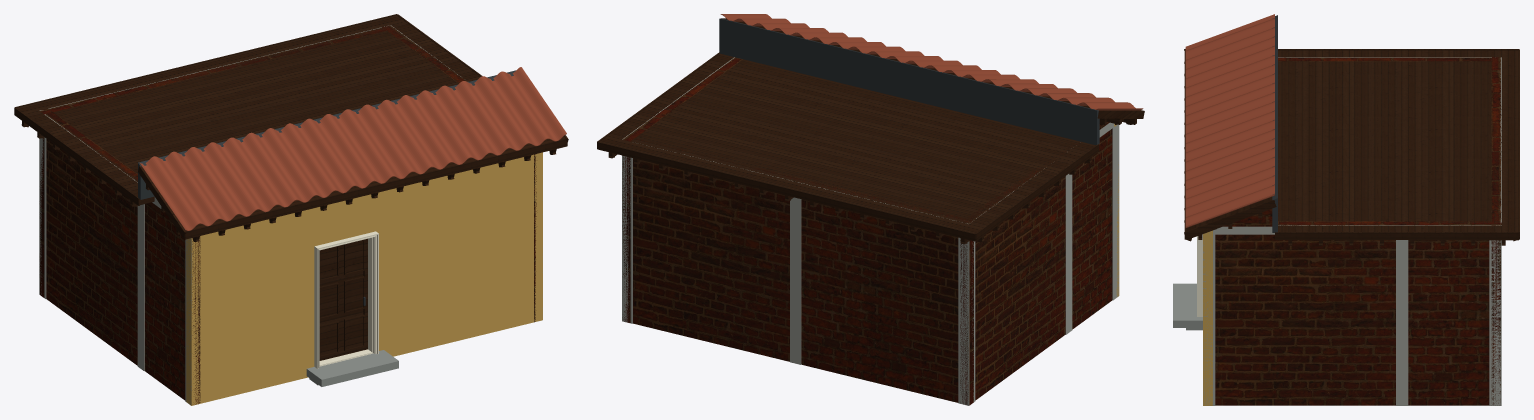
File: building.glb
The picture shows the model from 3 angles, left to right: view 1: azimuth 30°, elevation 25°; view 2: azimuth 150°, elevation 25°; view 3: azimuth 270°, elevation 25°; orthographic projection.
Visible parts, largest first — view 1: house:0/edge0/z0/house:0/edge0/z0/wall_0_0, roof_assembly/cubierta/roof_substrate#0002, house:0/edge3/z0/house:0/edge3/z0/wall_0_0, roof_assembly/cubierta/roof_fascia#0002, house:0/edge2/z0/house:0/edge2/z0/wall_0_0, site/entrance/0/entrance_step#0002, house:0/edge3/z0/house:0/edge3/z0/column_2_0, roof_assembly/cubierta/roof_fascia#0005, house:0/edge0/z0/opening_u2.80_v0.12/door_panel_back#0001, house:0/edge1/z0/house:0/edge1/z0/wall_0_0, house:0/edge3/z0/house:0/edge3/z0/column_0_0, roof_assembly/cubierta/roof_substrate#0001 (+13 smaller); view 2: house:0/edge2/z0/house:0/edge2/z0/wall_0_0, roof_assembly/cubierta/roof_substrate#0002, house:0/edge3/z0/house:0/edge3/z0/wall_0_0, roof_assembly/cubierta/roof_abutment#0001, roof_assembly/cubierta/roof_fascia#0004, house:0/edge1/z0/house:0/edge1/z0/wall_0_0, house:0/edge2/z0/house:0/edge2/z0/column_2_0, house:0/edge2/z0/house:0/edge2/z0/column_1_0, house:0/edge2/z0/house:0/edge2/z0/column_0_0, house:0/edge3/z0/house:0/edge3/z0/column_1_0, house:0/edge3/z0/house:0/edge3/z0/column_2_0, roof_assembly/cubierta/roof_fascia#0005; view 3: house:0/edge1/z0/house:0/edge1/z0/wall_0_0, roof_assembly/cubierta/roof_substrate#0002, house:0/edge2/z0/house:0/edge2/z0/wall_0_0, house:0/edge1/z0/house:0/edge1/z0/column_2_0, house:0/edge1/z0/house:0/edge1/z0/column_1_0, roof_assembly/cubierta/roof_fascia#0006, house:0/edge0/z0/house:0/edge0/z0/wall_0_0, site/entrance/0/entrance_step#0002, house:0/edge3/z0/house:0/edge3/z0/wall_0_0, roof_assembly/cubierta/roof_fascia#0003, house:0/edge1/z0/house:0/edge1/z0/column_0_0, roof_assembly/cubierta/roof_abutment#0001 (+7 smaller).
Part boxes in pixels (x1,y1,x2,y2): house:0/edge0/z0/house:0/edge0/z0/wall_0_0: (186,152,542,405); roof_assembly/cubierta/roof_substrate#0002: (17,15,480,204); house:0/edge3/z0/house:0/edge3/z0/wall_0_0: (43,108,200,404); roof_assembly/cubierta/roof_fascia#0002: (185,138,567,239); house:0/edge2/z0/house:0/edge2/z0/wall_0_0: (39,27,395,297); site/entrance/0/entrance_step#0002: (306,350,398,386); house:0/edge3/z0/house:0/edge3/z0/column_2_0: (137,204,144,370); roof_assembly/cubierta/roof_fascia#0005: (14,107,139,205); house:0/edge0/z0/opening_u2.80_v0.12/door_panel_back#0001: (319,244,363,351); house:0/edge1/z0/house:0/edge1/z0/wall_0_0: (382,25,536,322); house:0/edge3/z0/house:0/edge3/z0/column_0_0: (39,137,46,298); roof_assembly/cubierta/roof_substrate#0001: (142,136,565,238); house:0/edge2/z0/house:0/edge2/z0/wall_0_0: (633,139,973,405); roof_assembly/cubierta/roof_substrate#0002: (600,53,1095,233); house:0/edge3/z0/house:0/edge3/z0/wall_0_0: (960,129,1112,404); roof_assembly/cubierta/roof_abutment#0001: (719,18,1099,144); roof_assembly/cubierta/roof_fascia#0004: (597,141,975,241); house:0/edge1/z0/house:0/edge1/z0/wall_0_0: (622,57,742,323); house:0/edge2/z0/house:0/edge2/z0/column_2_0: (790,197,801,364); house:0/edge2/z0/house:0/edge2/z0/column_1_0: (958,237,969,405); house:0/edge2/z0/house:0/edge2/z0/column_0_0: (622,155,632,323); house:0/edge3/z0/house:0/edge3/z0/column_1_0: (1112,124,1119,300); house:0/edge3/z0/house:0/edge3/z0/column_2_0: (1065,174,1072,334); roof_assembly/cubierta/roof_fascia#0005: (975,144,1098,241); house:0/edge1/z0/house:0/edge1/z0/wall_0_0: (1215,221,1501,405); roof_assembly/cubierta/roof_substrate#0002: (1278,50,1518,231); house:0/edge2/z0/house:0/edge2/z0/wall_0_0: (1491,57,1500,404); house:0/edge1/z0/house:0/edge1/z0/column_2_0: (1396,240,1408,405); house:0/edge1/z0/house:0/edge1/z0/column_1_0: (1489,240,1501,405); roof_assembly/cubierta/roof_fascia#0006: (1275,232,1518,239); house:0/edge0/z0/house:0/edge0/z0/wall_0_0: (1203,230,1212,405); site/entrance/0/entrance_step#0002: (1173,283,1202,327); house:0/edge3/z0/house:0/edge3/z0/wall_0_0: (1278,57,1491,61); roof_assembly/cubierta/roof_fascia#0003: (1184,200,1276,239); house:0/edge1/z0/house:0/edge1/z0/column_0_0: (1203,234,1215,405); roof_assembly/cubierta/roof_abutment#0001: (1272,15,1277,232).
Bounding box in the file's own units: 8.74 × 4.89 × 6.97.
Materials: 8 (2 with a texture image).
